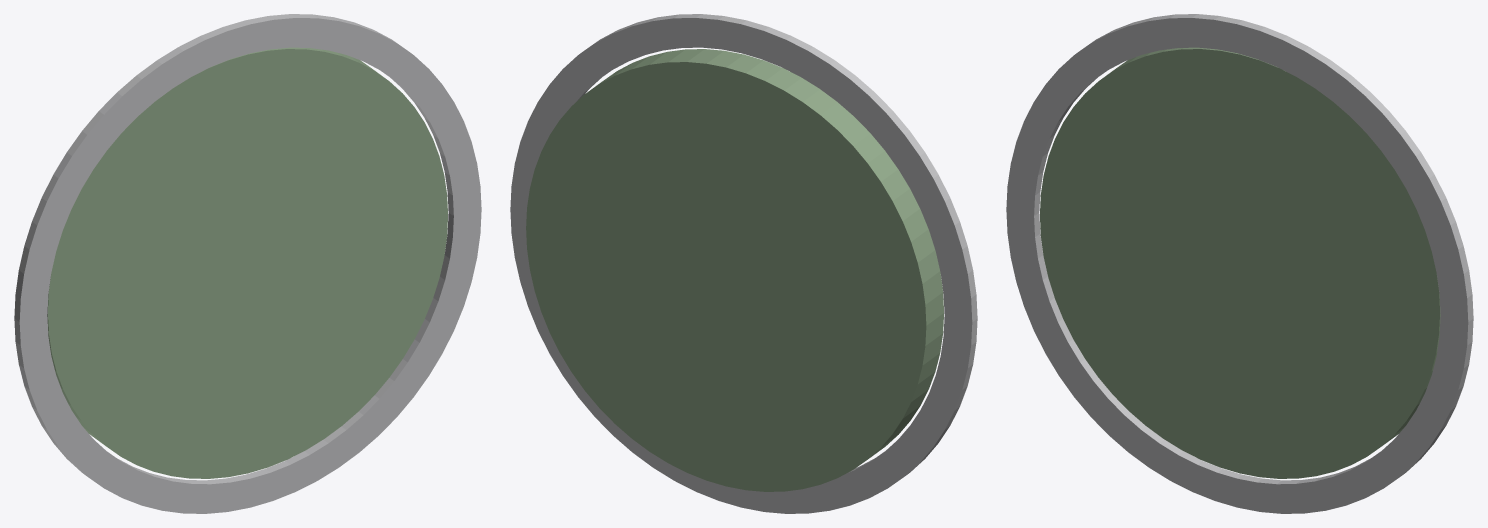
File: app-conifer.glb
3 views of the same model, side by side, from view 1: azimuth 30°, elevation 25°; view 2: azimuth 150°, elevation 25°; view 3: azimuth 330°, elevation 25° (orthographic).
Parts seen in each view (by area): view 1: app_conifer, ring; view 2: app_conifer, ring; view 3: app_conifer, ring.
Part boxes in pixels (bbox=[...]): app_conifer: bbox=[47, 47, 447, 478]; ring: bbox=[14, 14, 481, 513]; app_conifer: bbox=[526, 49, 943, 491]; ring: bbox=[510, 14, 977, 513]; app_conifer: bbox=[1040, 47, 1440, 478]; ring: bbox=[1006, 14, 1473, 513].
Size of the model in its own units: 0.15 by 0.15 by 0.0115.
